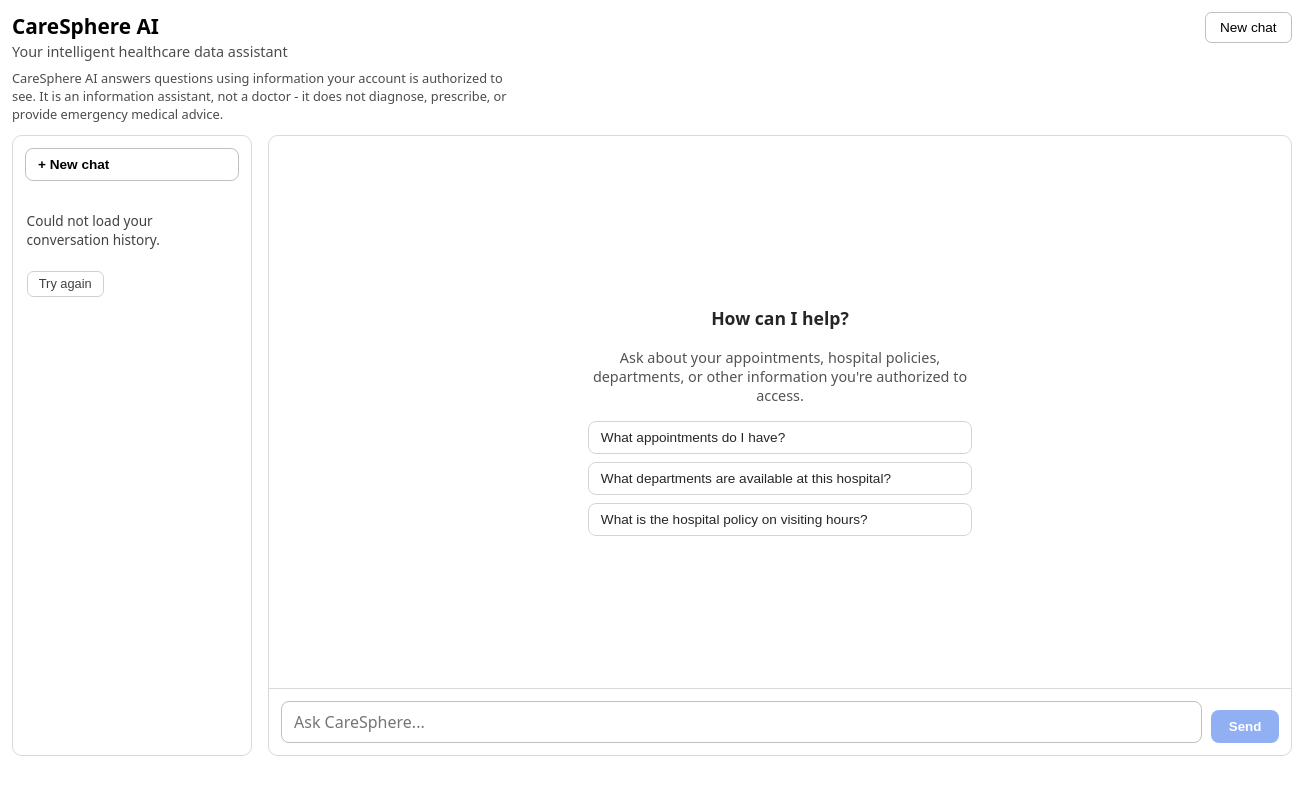
ChatPage - conversation history › shows a history error state with retry
Expected: the message "Could not load your conversation history. Try again" is shown, [27,211,160,297]
Click the button "Try again".
click(65, 284)  # box [27,271,104,297]
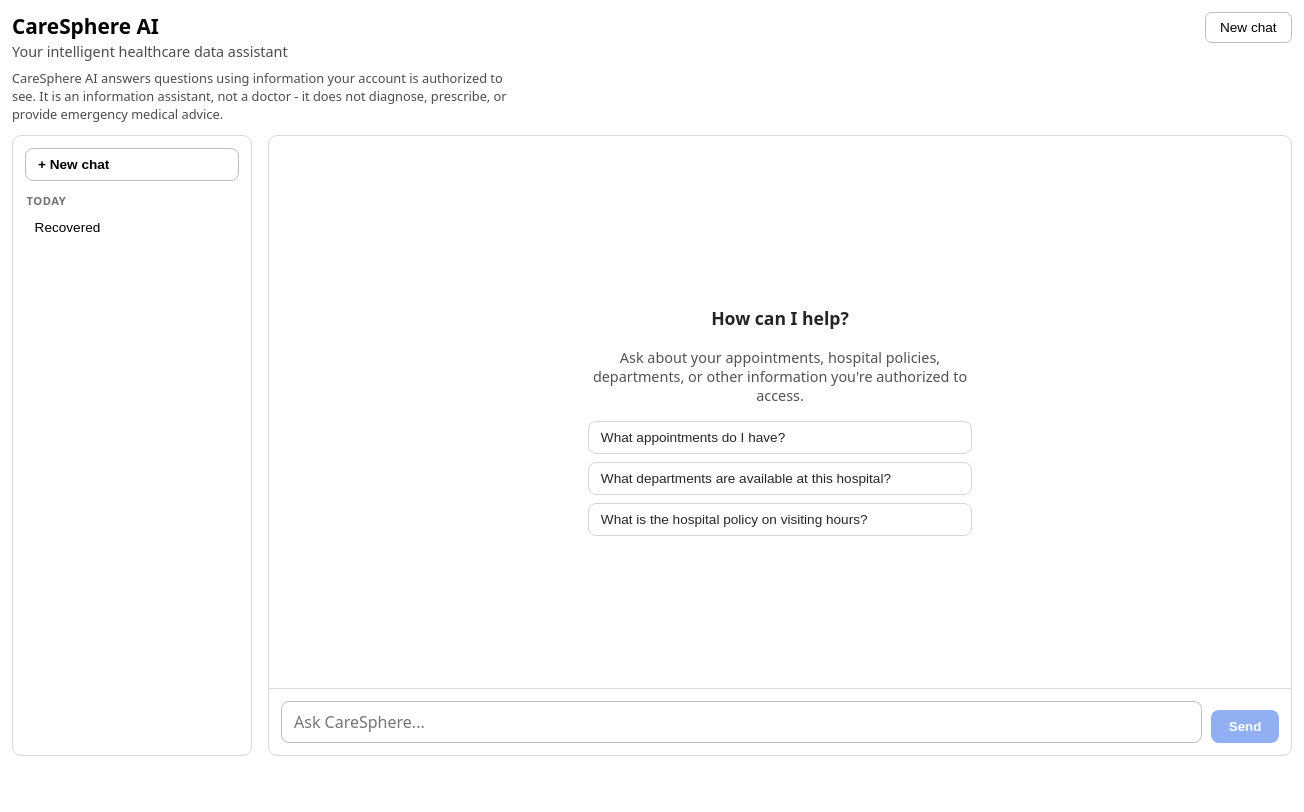
Now the button "Recovered" is shown, box [25,212,239,242]
